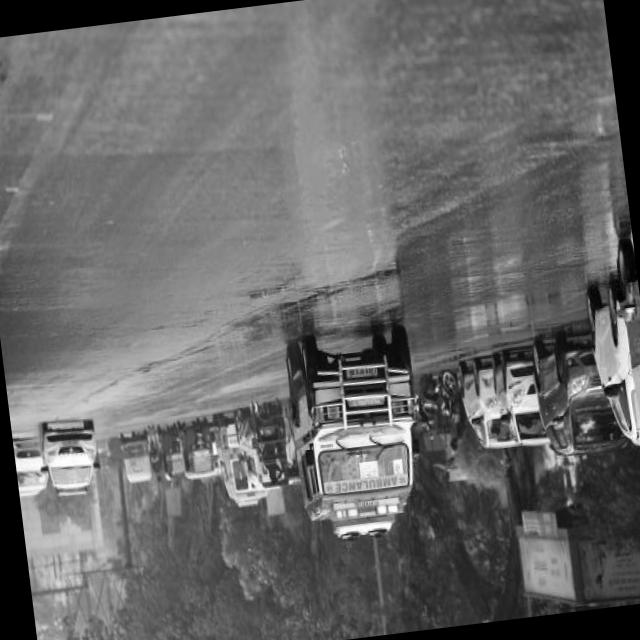ambulance: (274, 288, 442, 546), (320, 464, 412, 499), (328, 490, 407, 527)
